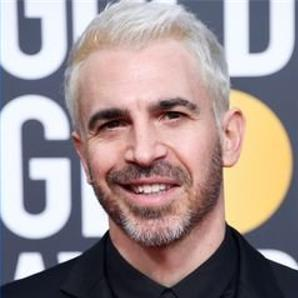Sober: (85, 51, 220, 237)
